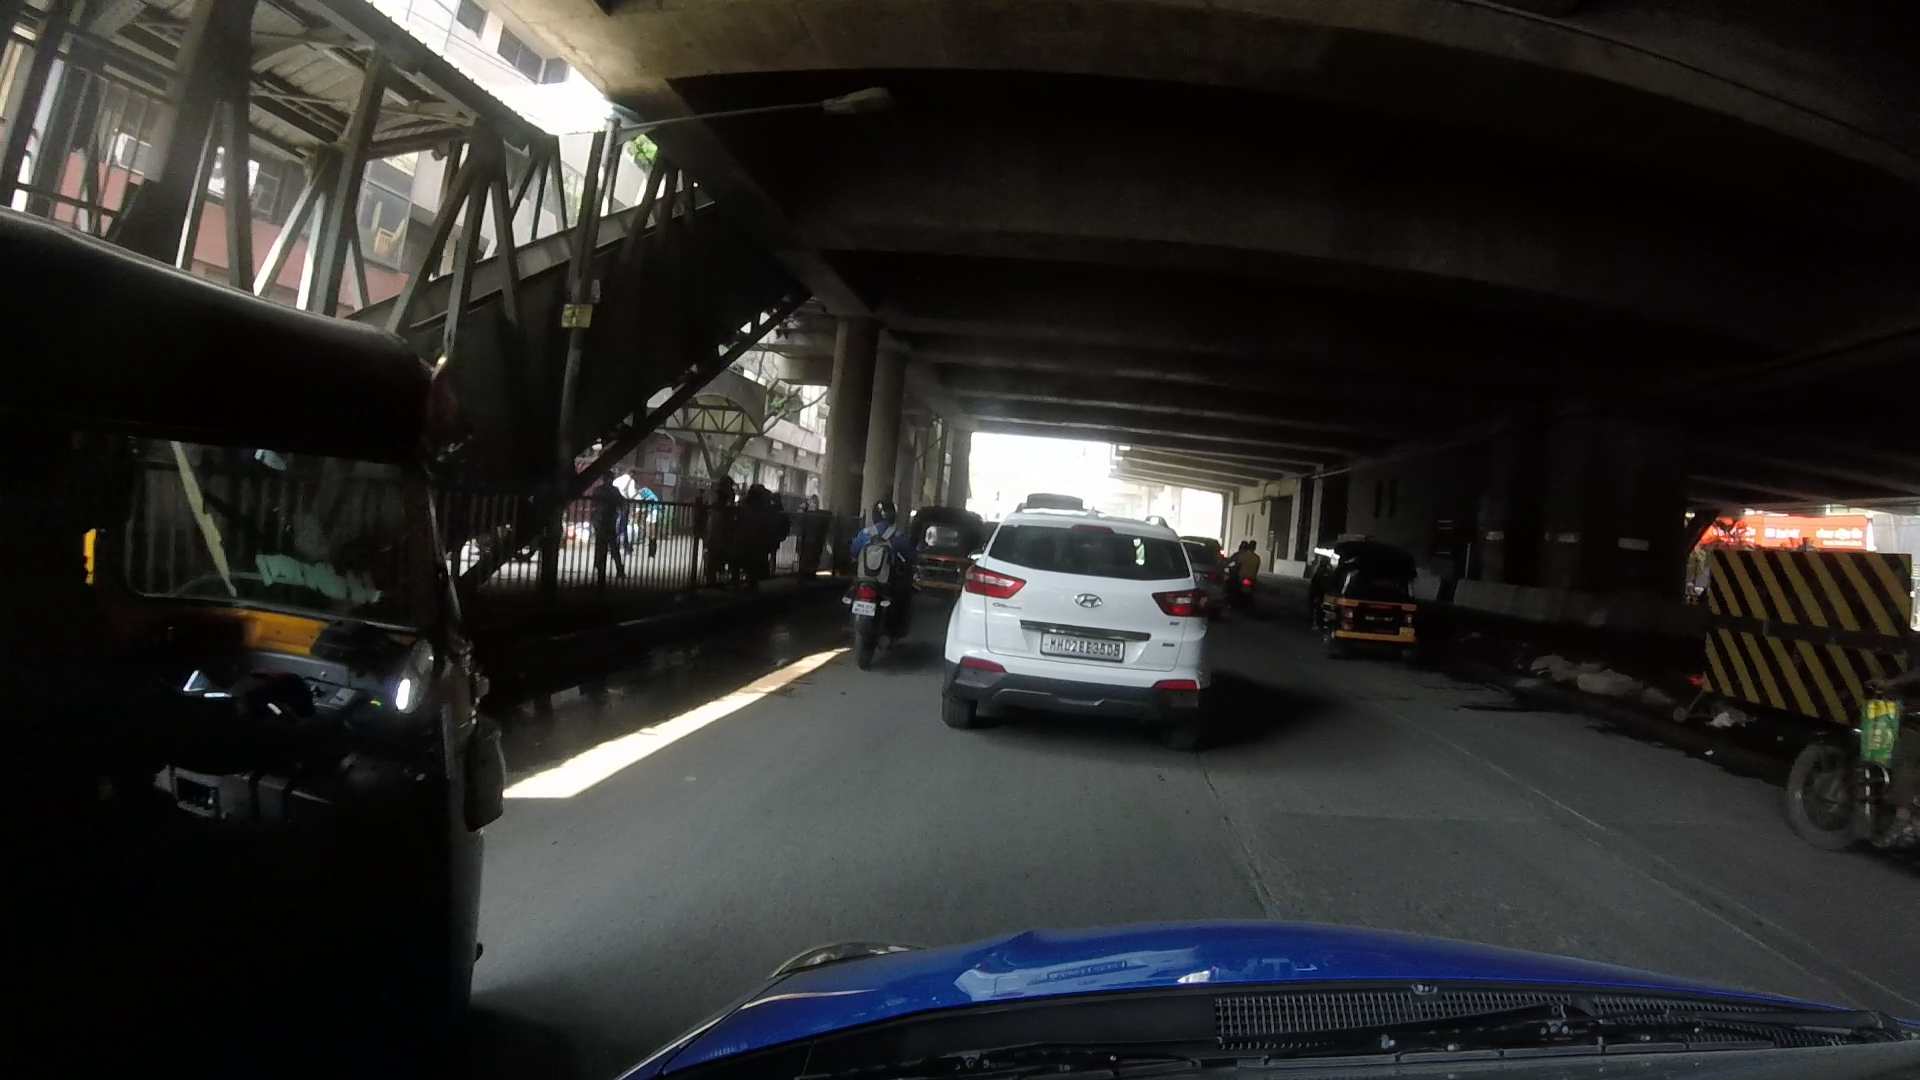bike/scooter: (812, 506, 945, 669)
car: (927, 492, 1221, 748)
rickshaw: (12, 214, 487, 1080), (1295, 525, 1427, 719)
